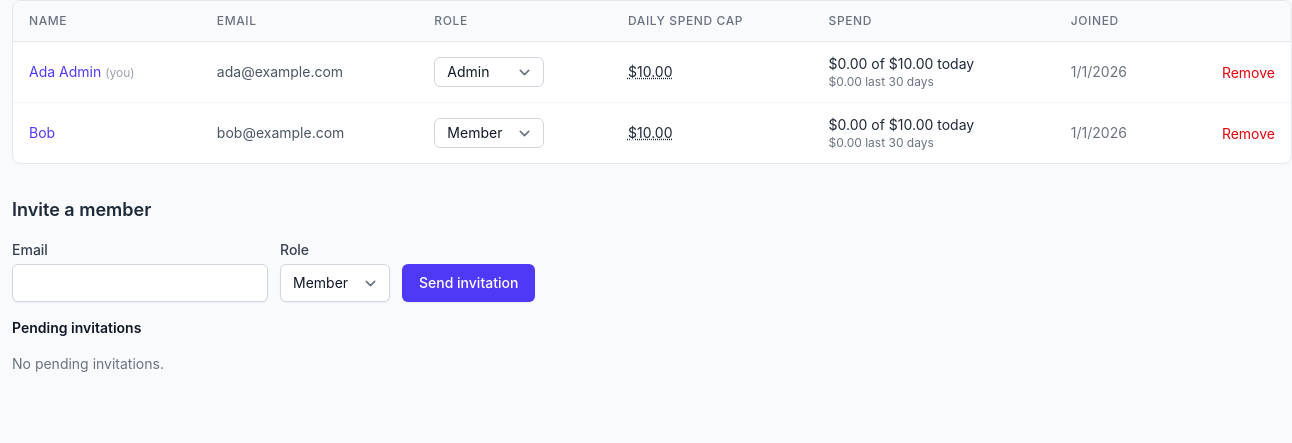
PeopleManager › shows the API error when an update is refused
Select "Member" in the dropdown named "Role for Ada Admin" at (489, 72), box [434,57,544,87]
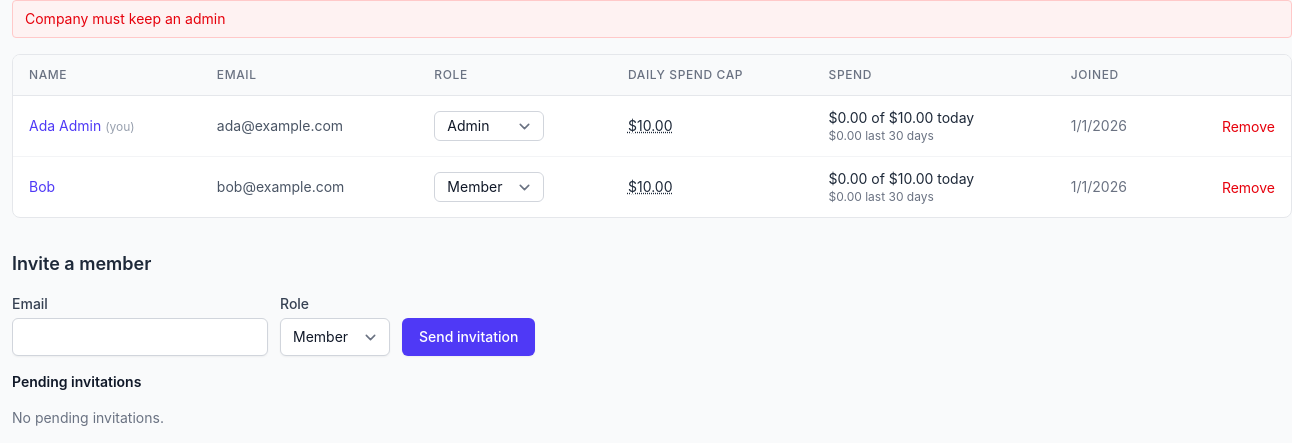
Expected: the message reads "Company must keep an admin", [25,10,225,27]
